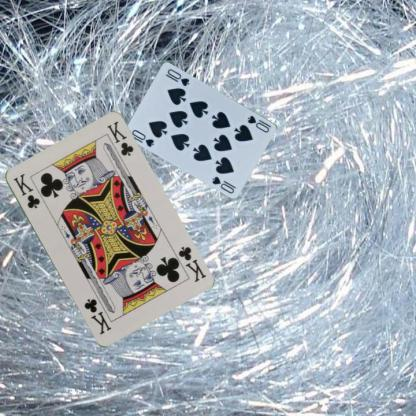10s: (245, 113, 273, 134), (130, 127, 156, 149)
Kc: (175, 243, 207, 284), (10, 170, 41, 210)
